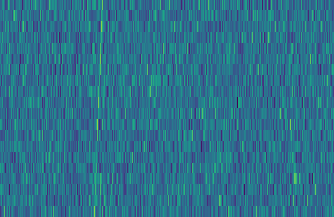signal: (88, 0, 106, 217)
